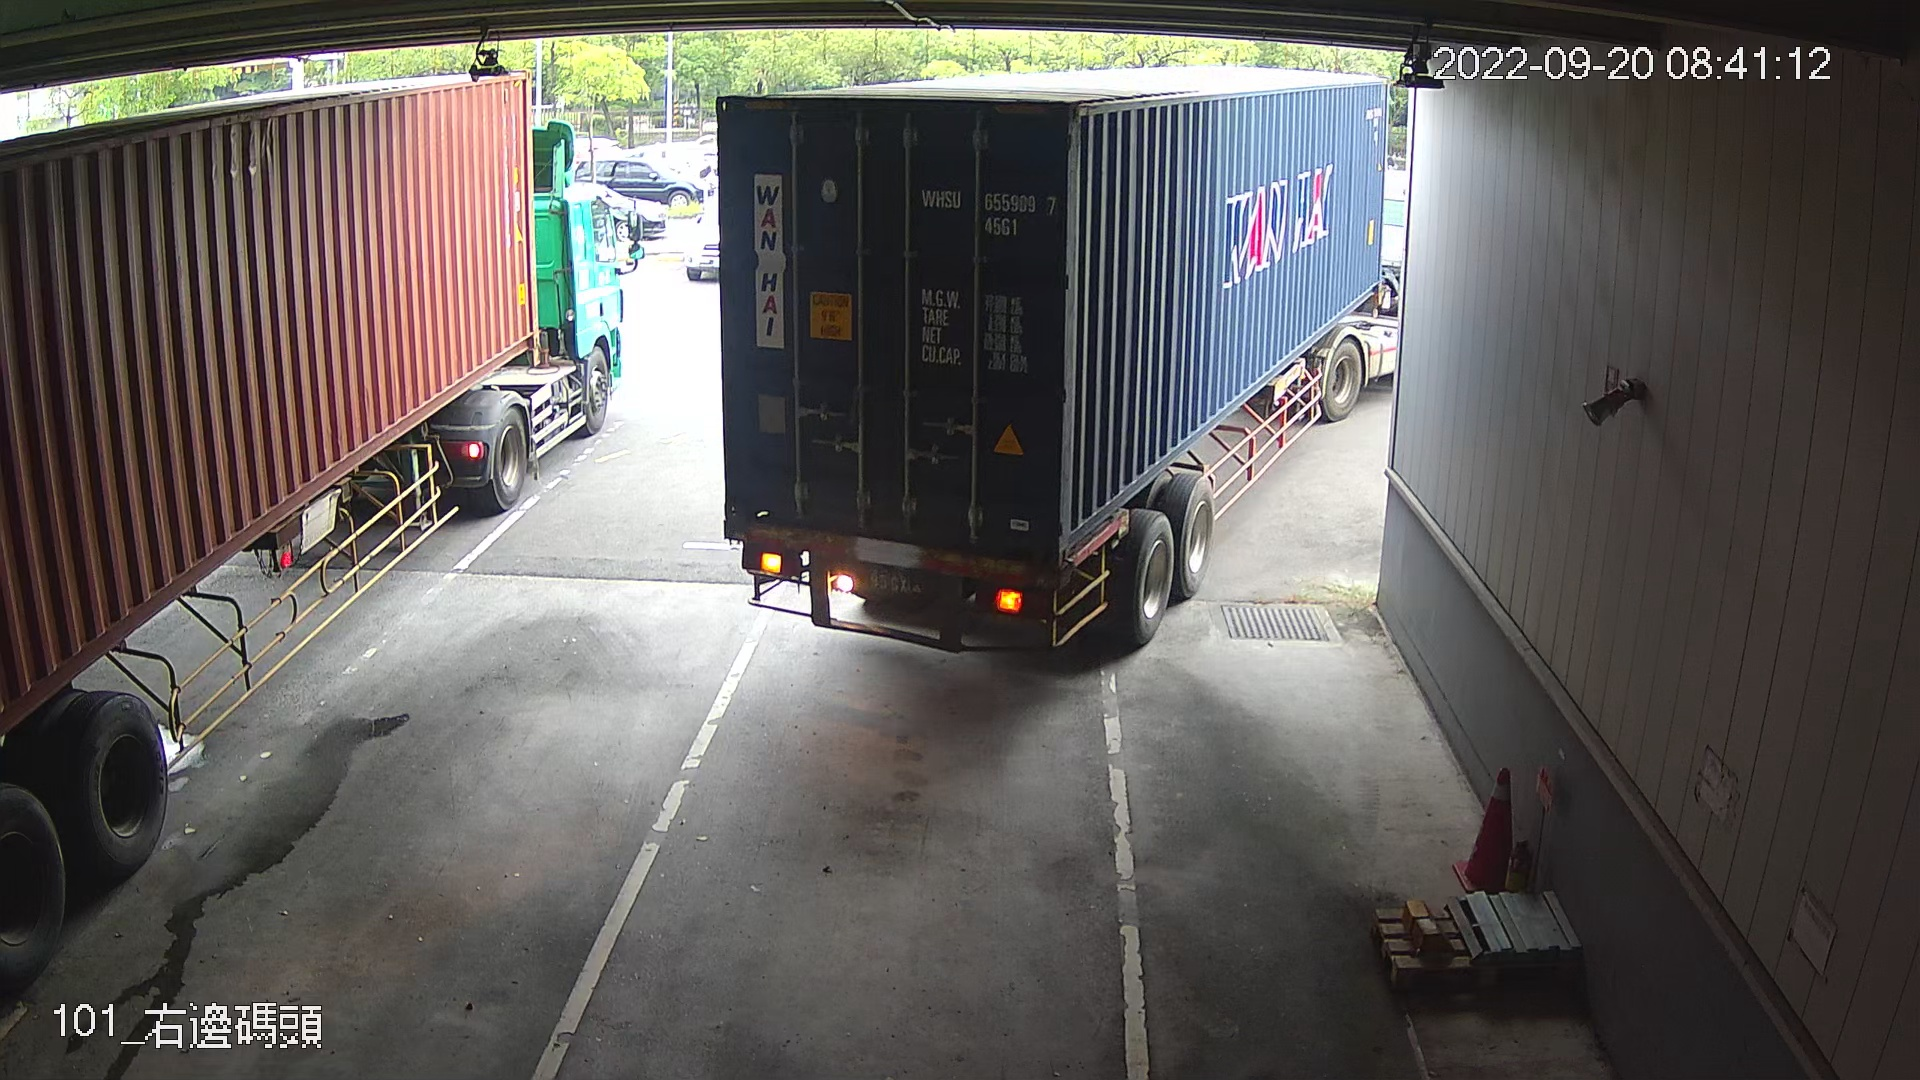container: (913, 179, 1062, 247)
